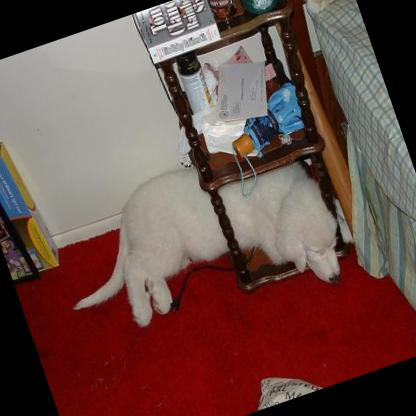Great_Pyrenees: (35, 118, 358, 370)
